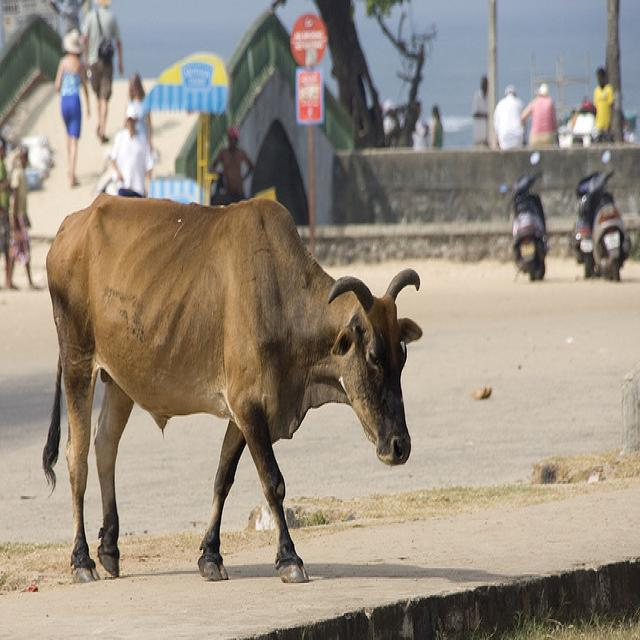motor: (494, 154, 549, 279), (576, 154, 631, 278)
